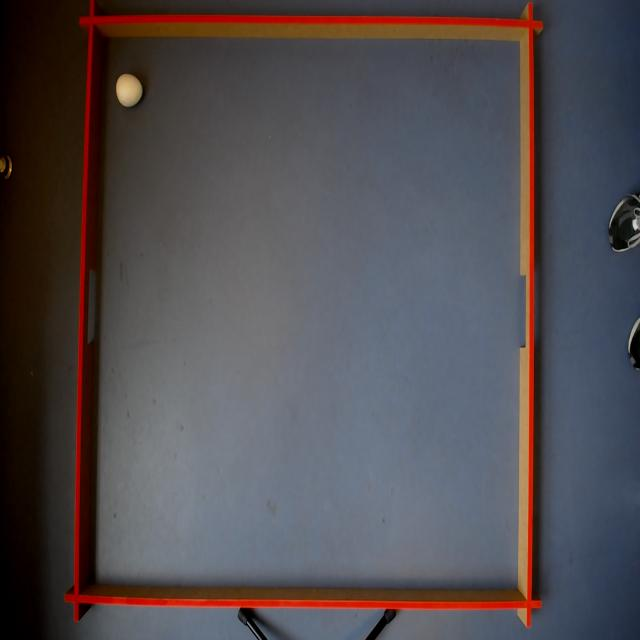egg: (115, 72, 144, 110)
